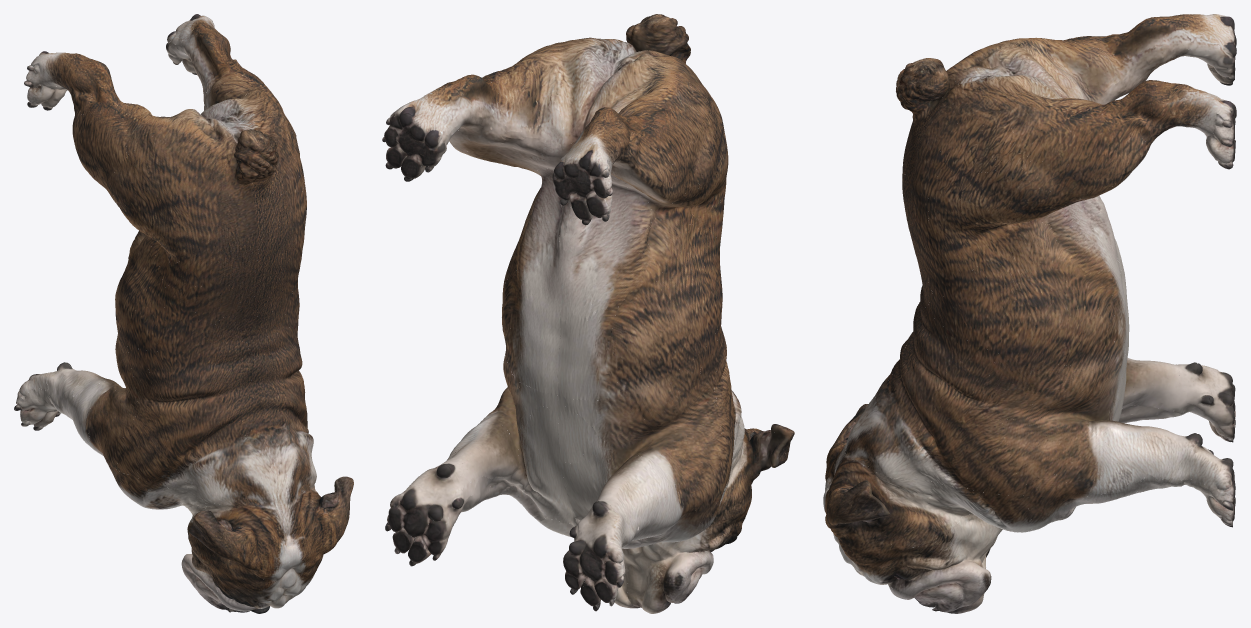
File: aligned_textured.glb
The picture shows the model from 3 angles, left to right: view 1: azimuth 30°, elevation 25°; view 2: azimuth 150°, elevation 25°; view 3: azimuth 270°, elevation 25°; orthographic projection. The views are drawn at different scales.
Parts seen in each view (by area): view 1: tripo_node_0e7daf04-7a90-440e-9028-d3a64e371b59; view 2: tripo_node_0e7daf04-7a90-440e-9028-d3a64e371b59; view 3: tripo_node_0e7daf04-7a90-440e-9028-d3a64e371b59.
Part boxes in pixels (x1,y1,x2,y2): tripo_node_0e7daf04-7a90-440e-9028-d3a64e371b59: (14,14,353,613); tripo_node_0e7daf04-7a90-440e-9028-d3a64e371b59: (382,14,794,613); tripo_node_0e7daf04-7a90-440e-9028-d3a64e371b59: (823,14,1236,613).
Bounding box in the file's own units: 283 × 668 × 446.
Materials: 1 (1 with a texture image).
